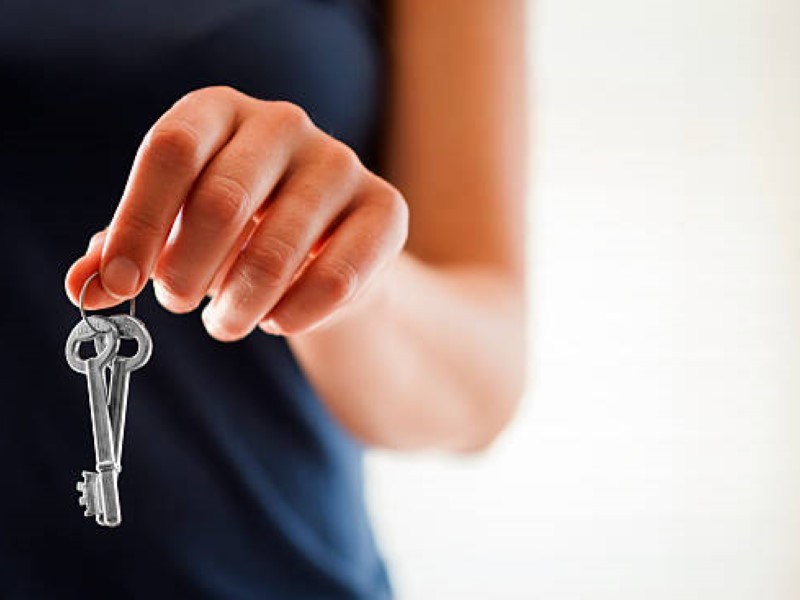key: (60, 310, 155, 530)
